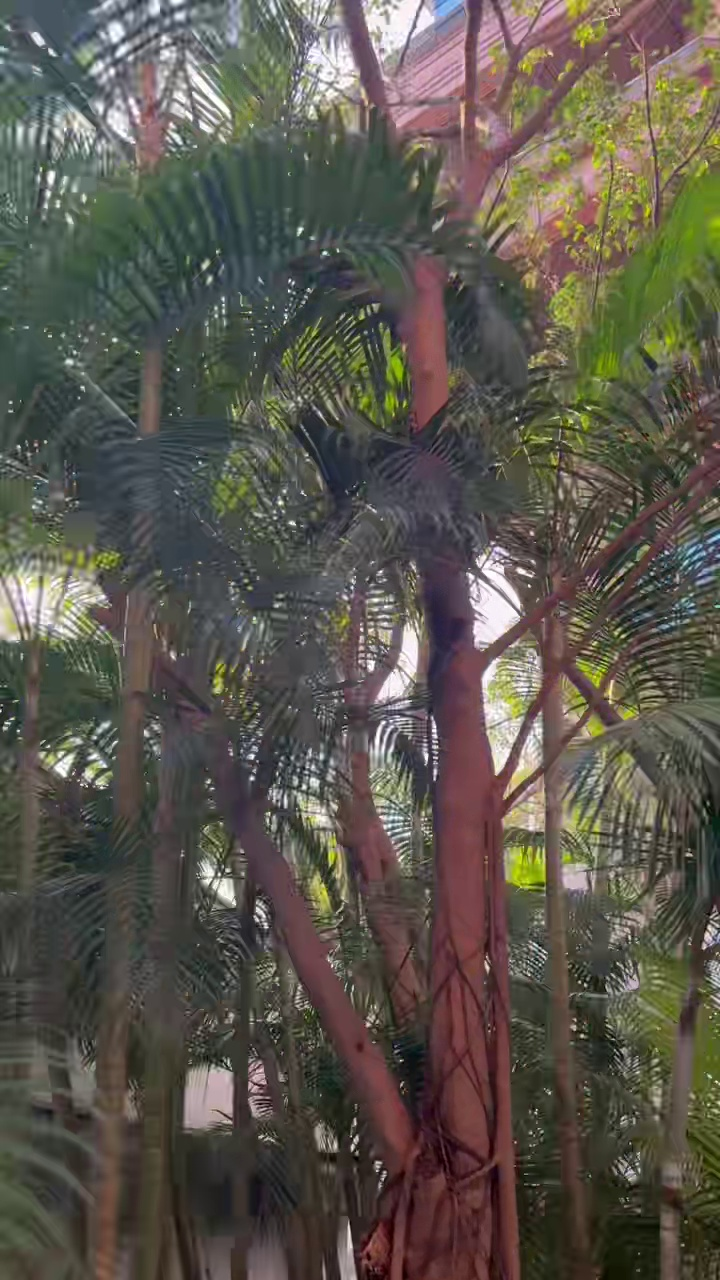Ficus benjamina: (237, 0, 641, 1279)
